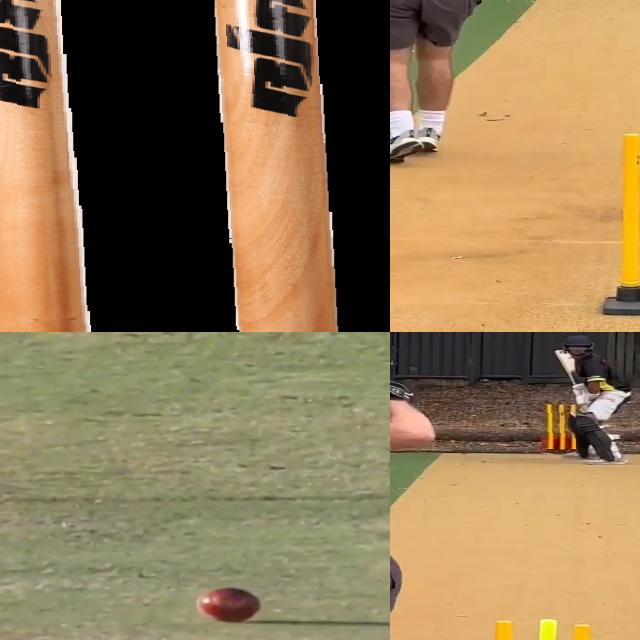Cricket ball: (194, 585, 264, 624)
Stumps: (0, 0, 390, 332), (603, 130, 640, 318), (542, 403, 576, 455)
